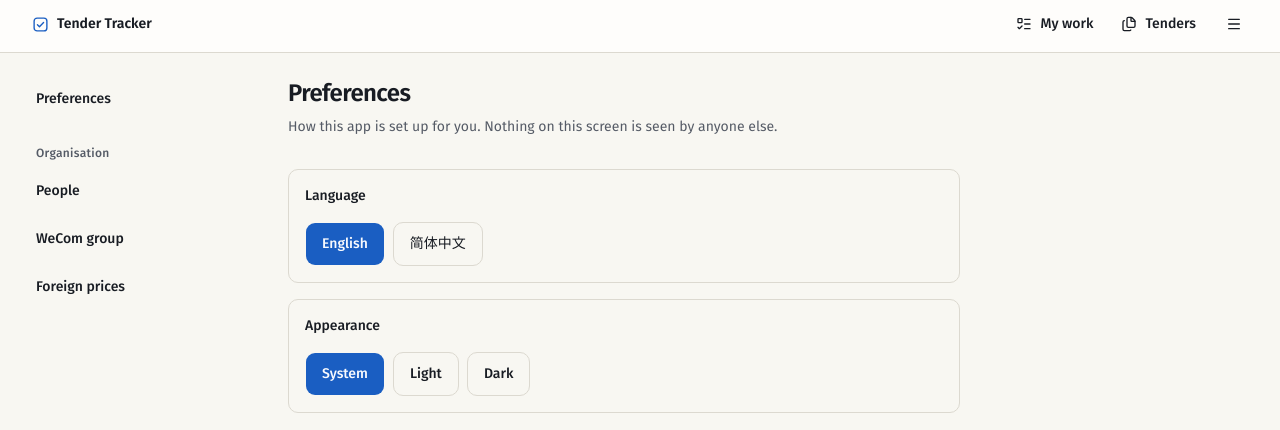
it: a reader who asked for reduced motion › is shown a switcher that does not spin while it waits
What coordinates should you click on to do the following:
click the button "Dark"
I would click on:
 (499, 374)
Its box is top-left (467, 352), bottom-right (530, 396).
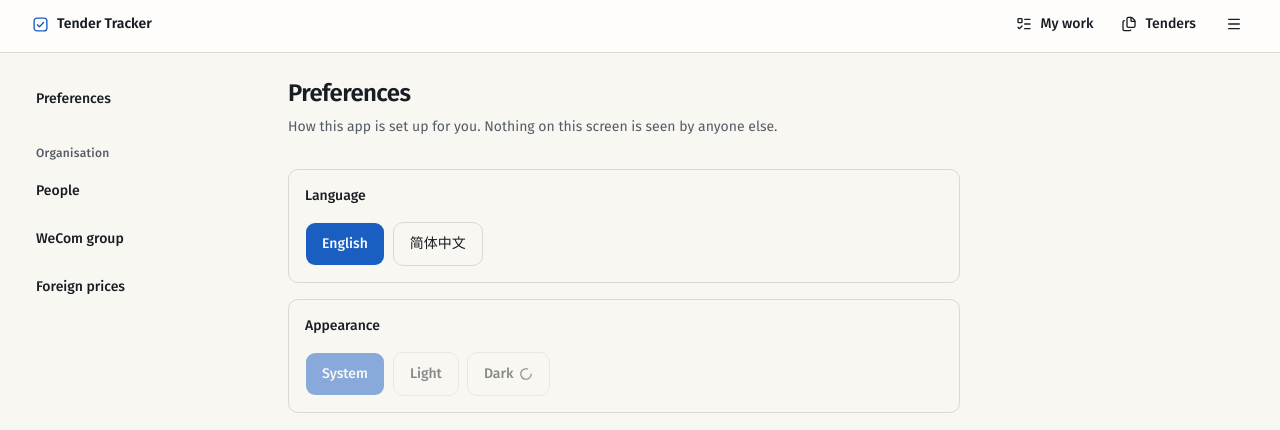
Expected: the icon with class "animate-spin" is shown, top-left (520, 367), bottom-right (534, 381)
